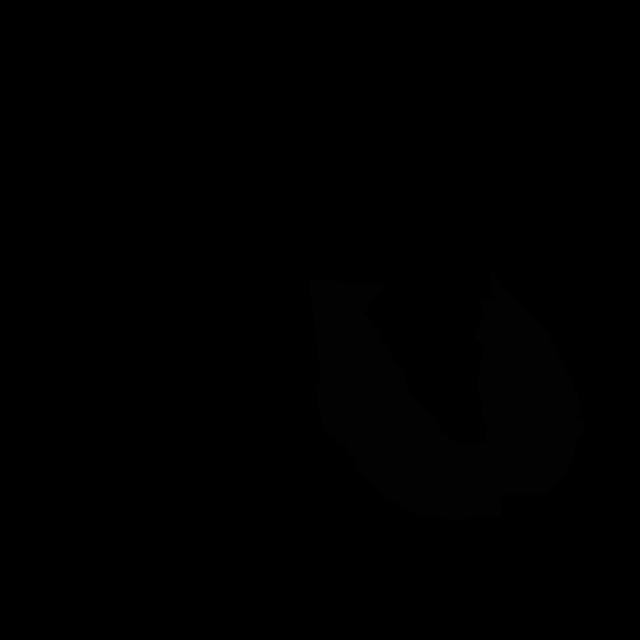cardboard: (308, 279, 502, 519), (476, 269, 586, 495)
